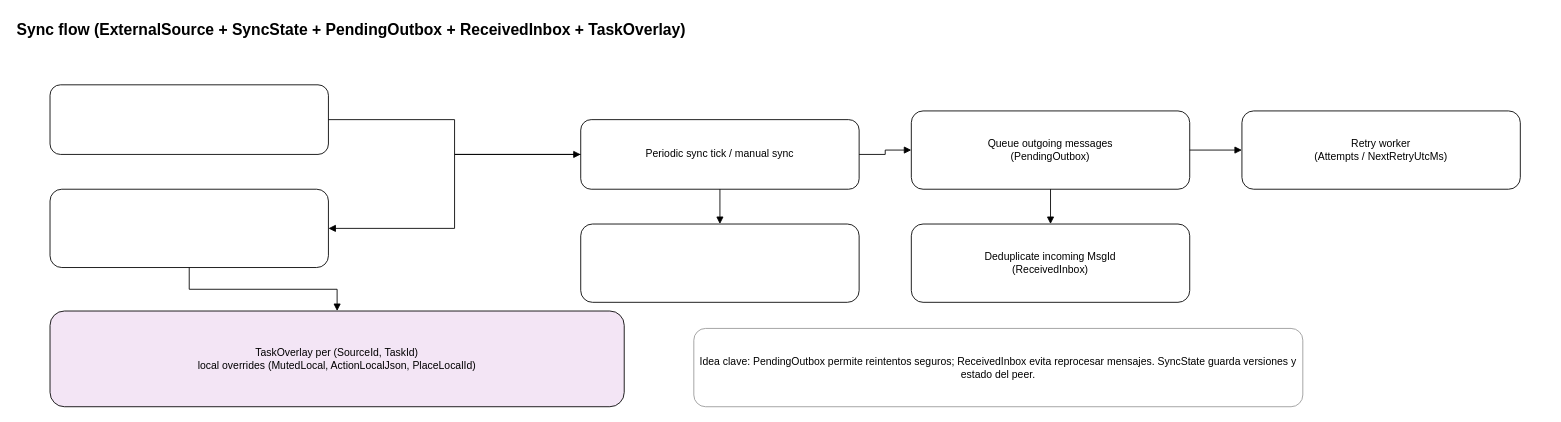
Image size: 1561x422. Some labels were removed from this diagram. The box of each missing label's shape, as (x1, y1, x2, y2) in pixels:
Apply remote changes (store imported tasks) + overlays: (49, 188, 328, 268)
ExternalSource configured (ResourceId + peer address): (49, 84, 328, 154)
Update SyncState (versions, last seen, hasUpdate): (580, 223, 859, 302)
